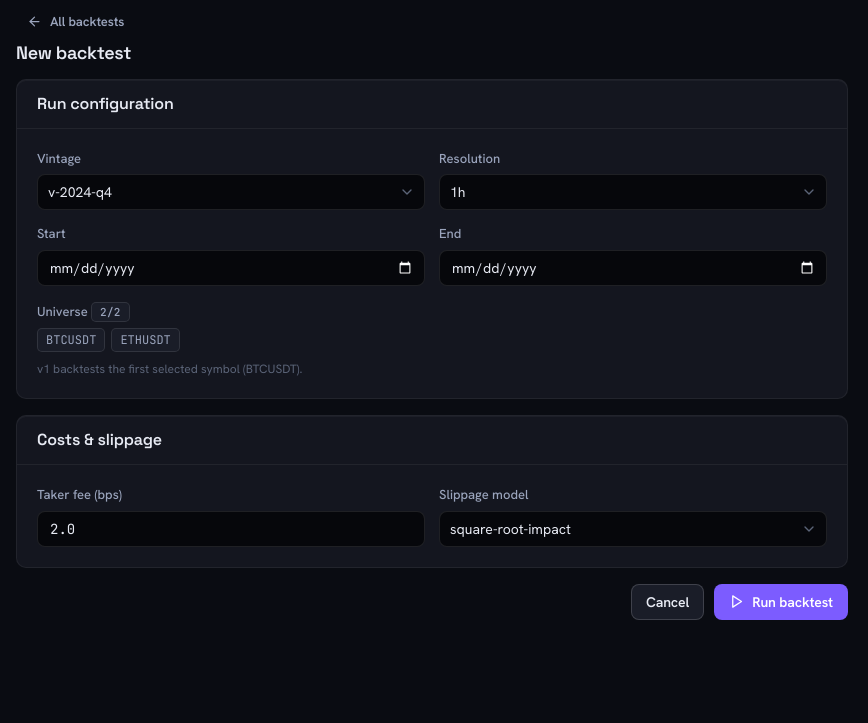
Test case: NewBacktest › blocks submit with a client-side validation message when the window is missing
Expected: the dropdown labelled "Vintage" shows "v-2024-q4", [37,174,425,210]
Click the button "Run backtest". click: (781, 602)
box: [714,584,848,620]
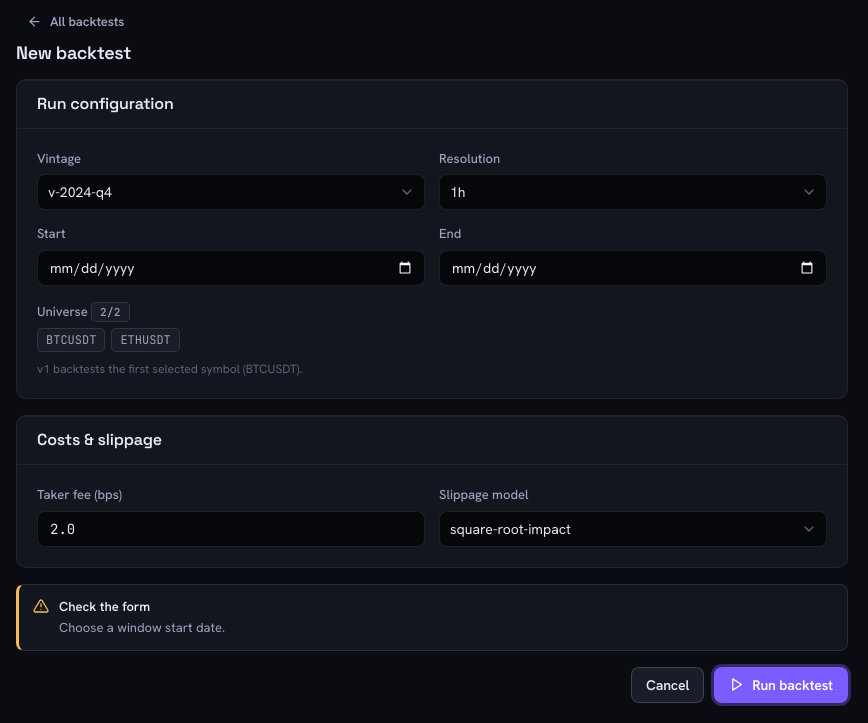
Result: the text "Check the form Choose a window start date." is shown at [59,597,225,638]
